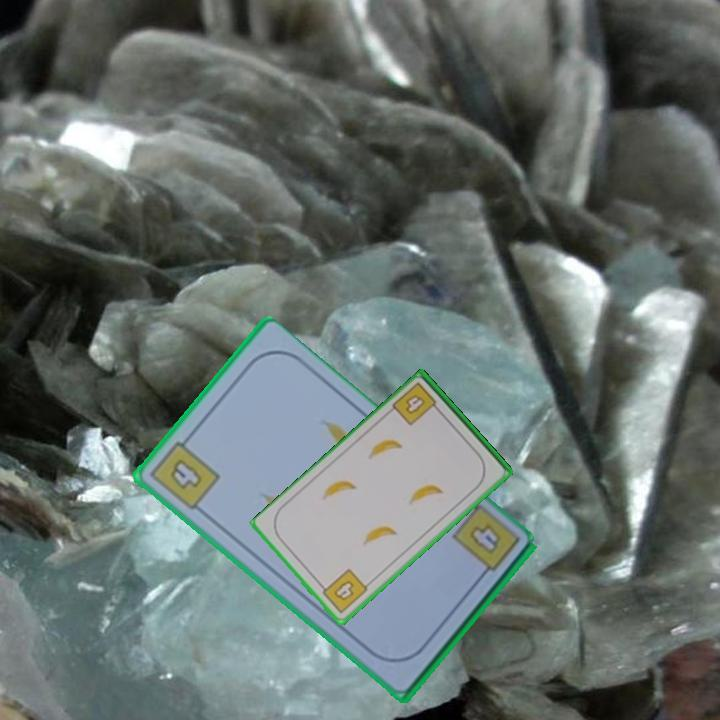4b: (146, 431, 223, 514), (316, 565, 371, 617), (389, 379, 444, 429), (465, 520, 504, 558)
